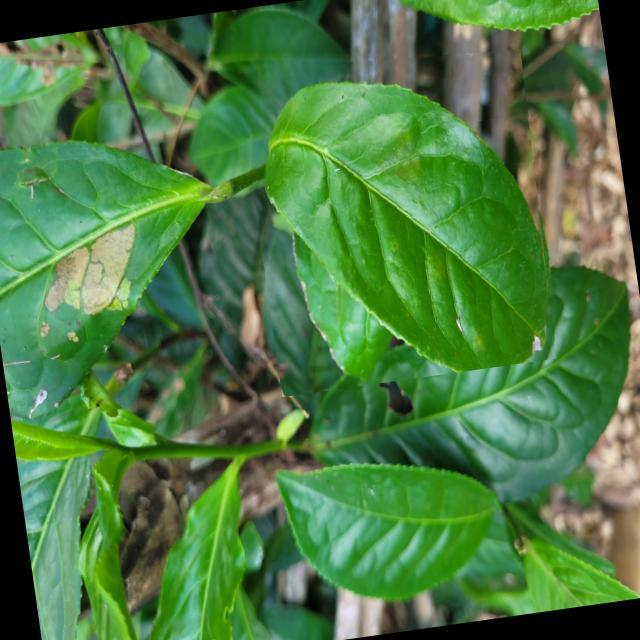Category D(7+ days, Not for Tea): (236, 30, 564, 396)
